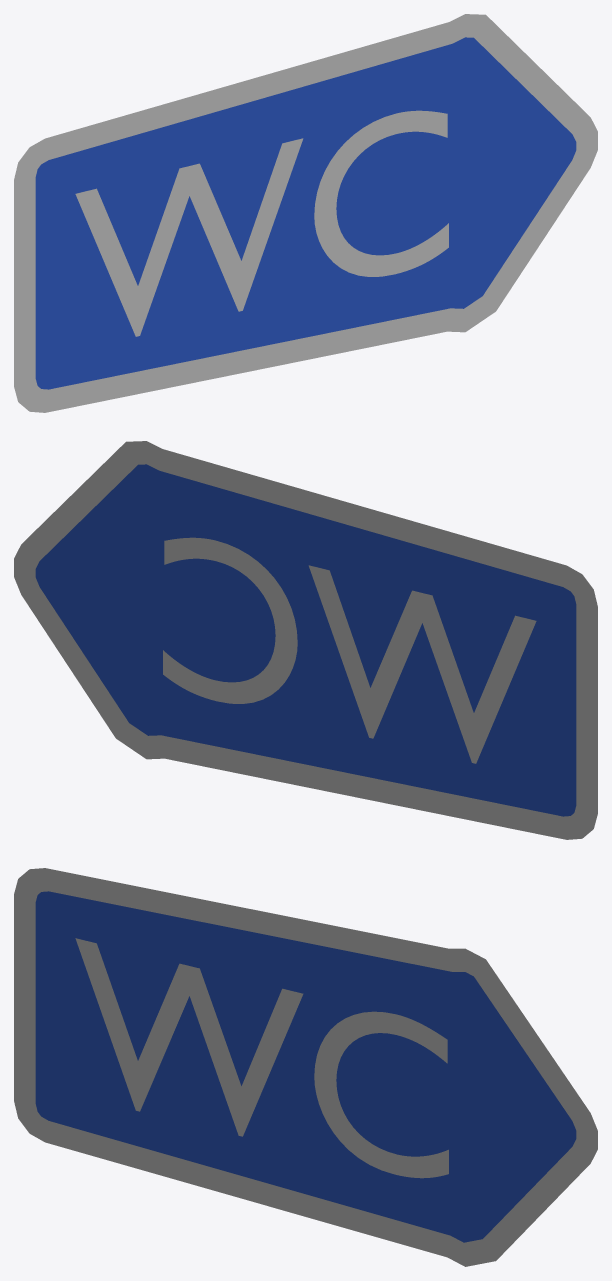
The model's file is Sighn.fbx.
3 views of the same model, one above another, from view 1: azimuth 30°, elevation 25°; view 2: azimuth 150°, elevation 25°; view 3: azimuth 330°, elevation 25° (orthographic).
Visible parts, largest first — view 1: Sighn; view 2: Sighn; view 3: Sighn.
Part boxes in pixels (x1=…): Sighn: x1=14, y1=14, x2=597, y2=412; Sighn: x1=14, y1=441, x2=597, y2=839; Sighn: x1=14, y1=868, x2=597, y2=1266.
Size of the model in its own units: 1.29 by 0.6737 by 0.
